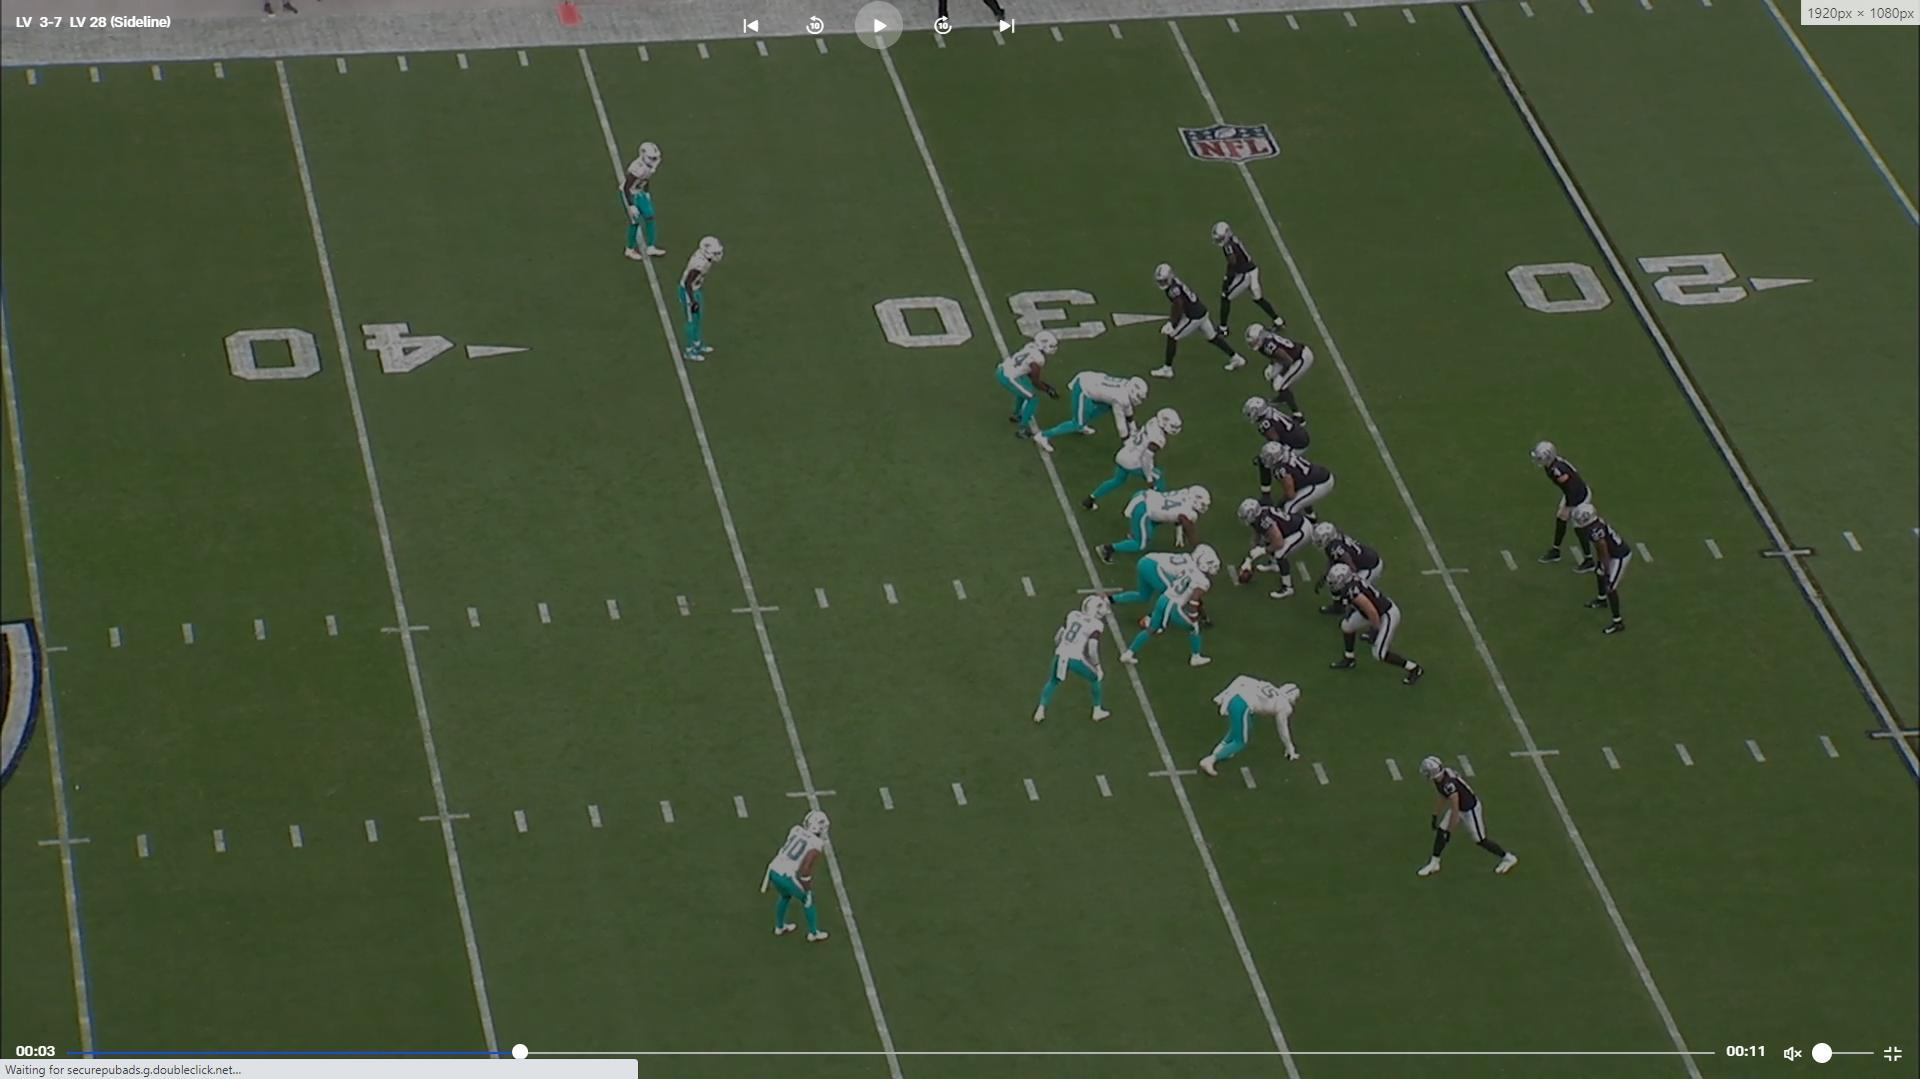player: (1410, 750, 1529, 890), (1027, 590, 1121, 731), (1196, 672, 1311, 783), (1118, 549, 1225, 668), (1148, 257, 1247, 382), (1328, 569, 1428, 689), (765, 810, 845, 956), (1107, 539, 1221, 634), (1080, 406, 1182, 512), (1093, 480, 1210, 567), (1034, 371, 1150, 455), (1212, 219, 1291, 340), (1233, 495, 1320, 602), (1526, 434, 1592, 570), (1000, 325, 1070, 449), (671, 231, 729, 368), (616, 134, 674, 269), (1578, 501, 1634, 638), (1244, 321, 1317, 426), (1316, 523, 1389, 626), (1254, 440, 1337, 521), (1243, 391, 1313, 453)
